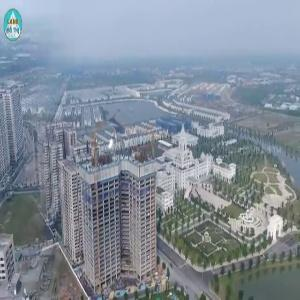drone: (86, 103, 143, 160)
